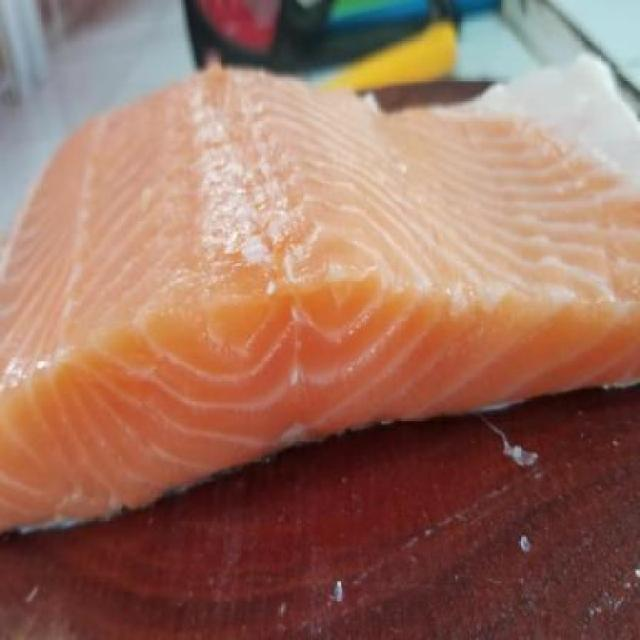salmon: (2, 65, 636, 509)
